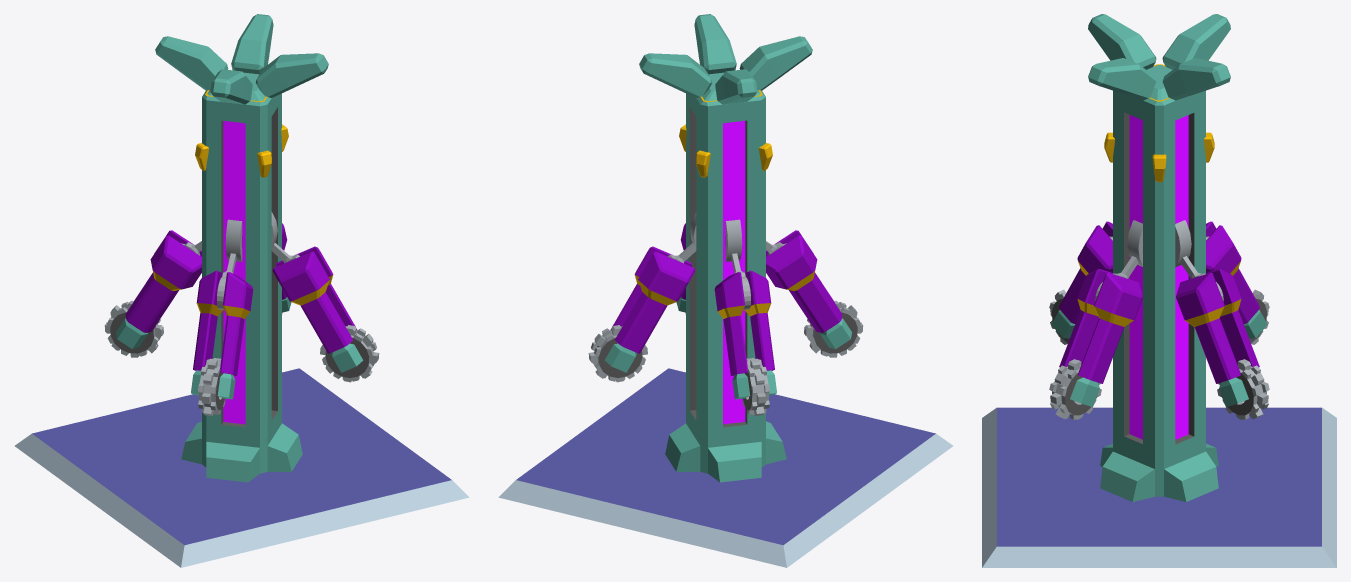
The model's file is 89_Haarvester_KEK7.fbx.
The picture shows the model from 3 angles, left to right: view 1: azimuth 30°, elevation 25°; view 2: azimuth 150°, elevation 25°; view 3: azimuth 270°, elevation 25°; orthographic projection. The views are drawn at different scales.
Parts seen in each view (by area): view 1: foundation7, base1, polySurface73 (×3), pPipe32 (×3), pCube174, pCube176, pCube175, polySurface72 (×3), pCube158, elevator1; view 2: foundation7, base1, polySurface73 (×3), pPipe32 (×3), pCube158, pCube175, pCube176, polySurface72 (×3), pCube174, elevator2; view 3: foundation7, base1, polySurface73 (×4), pPipe32 (×2), pCube174, pCube158, pCube175, pCube176, polySurface72 (×2), elevator1, elevator2.
Part boxes in pixels (x1=…): foundation7: x1=15, y1=368, x2=469, y2=567; base1: x1=181, y1=72, x2=302, y2=482; polySurface73 (×3): x1=125, y1=230, x2=357, y2=375; pPipe32 (×3): x1=104, y1=300, x2=379, y2=415; pCube174: x1=155, y1=36, x2=228, y2=90; pCube176: x1=255, y1=53, x2=328, y2=97; pCube175: x1=231, y1=14, x2=273, y2=74; polySurface72 (×3): x1=116, y1=318, x2=363, y2=399; pCube158: x1=210, y1=69, x2=252, y2=104; elevator1: x1=225, y1=219, x2=242, y2=261; foundation7: x1=498, y1=368, x2=952, y2=567; base1: x1=665, y1=72, x2=786, y2=482; polySurface73 (×3): x1=610, y1=230, x2=842, y2=375; pPipe32 (×3): x1=588, y1=300, x2=863, y2=415; pCube158: x1=739, y1=36, x2=812, y2=90; pCube175: x1=639, y1=53, x2=712, y2=97; pCube176: x1=694, y1=14, x2=736, y2=74; polySurface72 (×3): x1=604, y1=318, x2=851, y2=399; pCube174: x1=715, y1=69, x2=757, y2=104; elevator2: x1=725, y1=219, x2=742, y2=261; foundation7: x1=982, y1=407, x2=1336, y2=567; base1: x1=1100, y1=64, x2=1218, y2=501; polySurface73 (×4): x1=1059, y1=221, x2=1259, y2=383; pPipe32 (×2): x1=1049, y1=359, x2=1269, y2=420; pCube174: x1=1162, y1=14, x2=1230, y2=69; pCube158: x1=1088, y1=14, x2=1156, y2=69; pCube175: x1=1162, y1=58, x2=1230, y2=100; pCube176: x1=1088, y1=58, x2=1156, y2=100; polySurface72 (×2): x1=1070, y1=377, x2=1248, y2=407; elevator1: x1=1175, y1=220, x2=1191, y2=267; elevator2: x1=1127, y1=220, x2=1142, y2=266.
Size of the model in its own units: 2 by 2.81 by 2.
